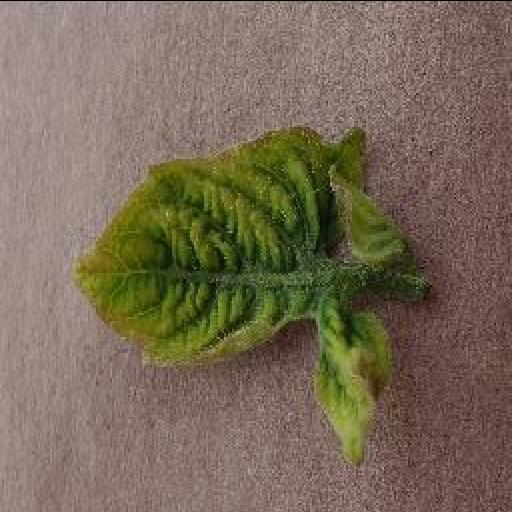disease_tomato: (74, 120, 408, 461)
